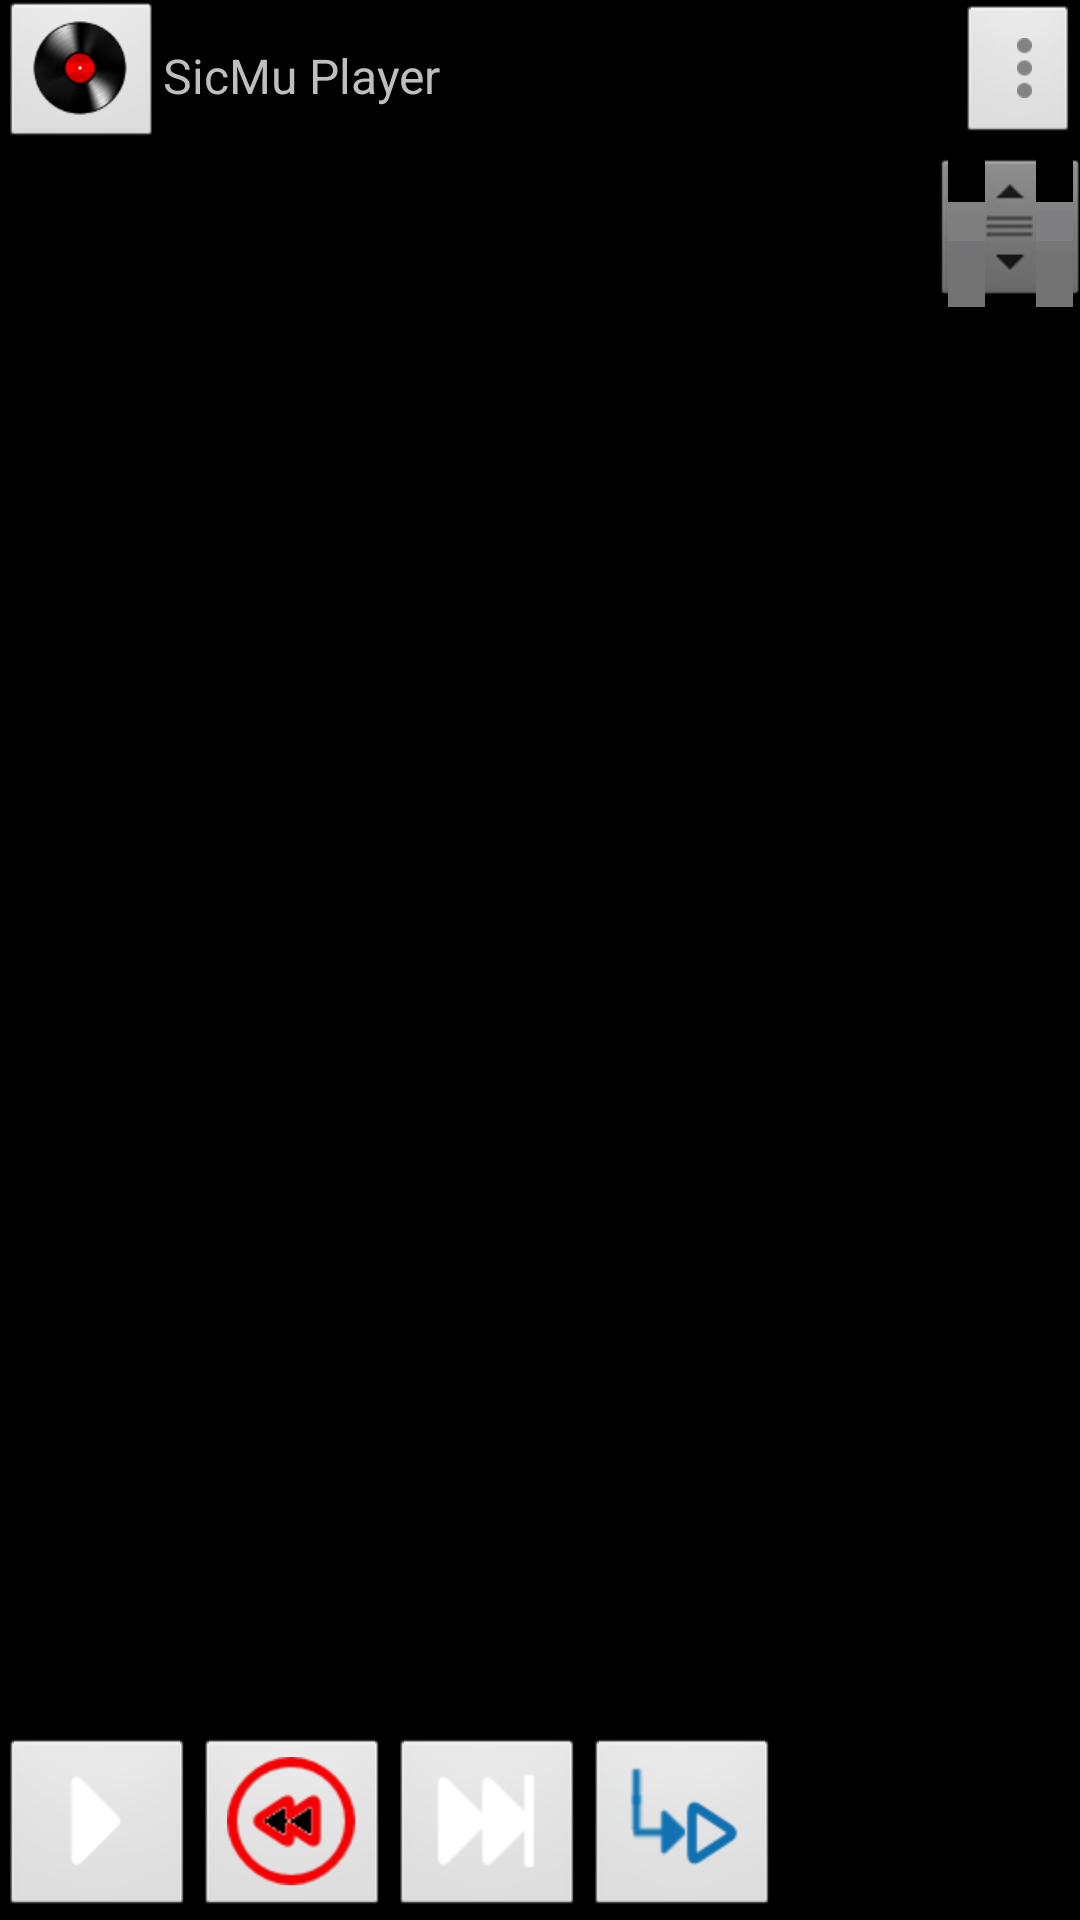

Icons on this 1080px x 1920px Android screen, each with its box as box=[x1, y1, x2, y2]:
goto play: box=[595, 1740, 768, 1904]
next: box=[400, 1740, 573, 1904]
overflow: box=[967, 6, 1068, 131]
play: box=[10, 1740, 183, 1904]
prev: box=[205, 1740, 378, 1904]
